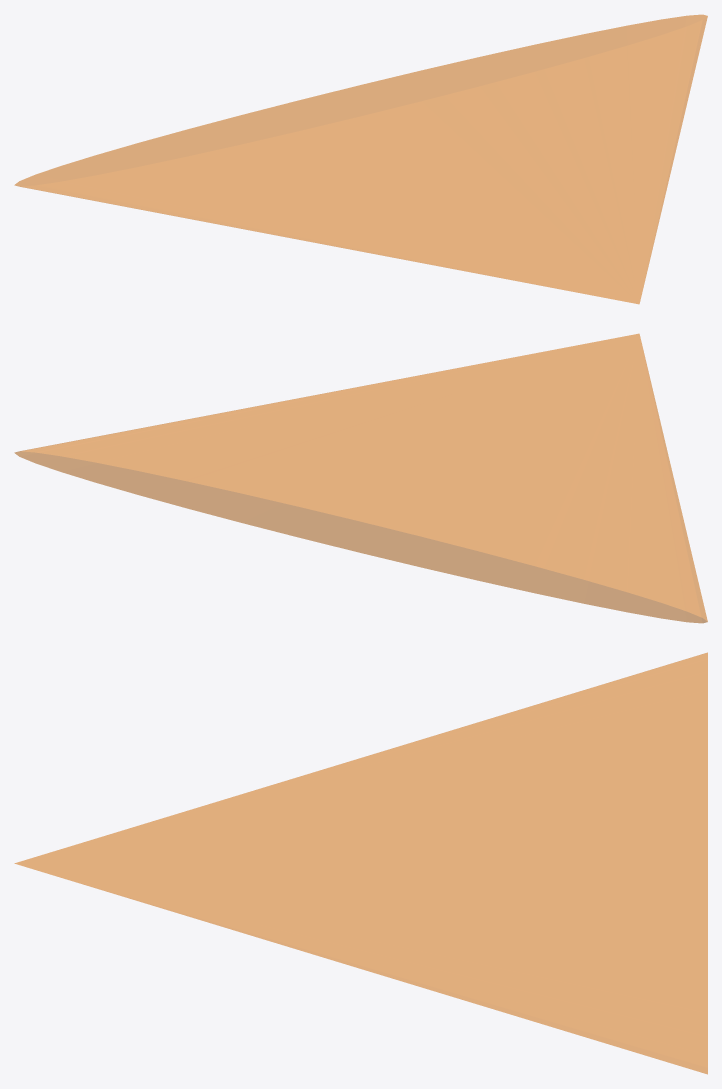
The picture shows the model from 3 angles, top to bottom: view 1: azimuth 30°, elevation 25°; view 2: azimuth 150°, elevation 25°; view 3: azimuth 270°, elevation 25°; orthographic projection. The views are drawn at different scales.
Parts seen in each view (by area): view 1: Cone; view 2: Cone; view 3: Cone.
Boxes of the visible parts, x1,y1,x2,y2 form: Cone: [14, 14, 707, 304]; Cone: [14, 333, 707, 623]; Cone: [14, 652, 707, 1074].
Size of the model in its own units: 271 by 11.68 by 188.
